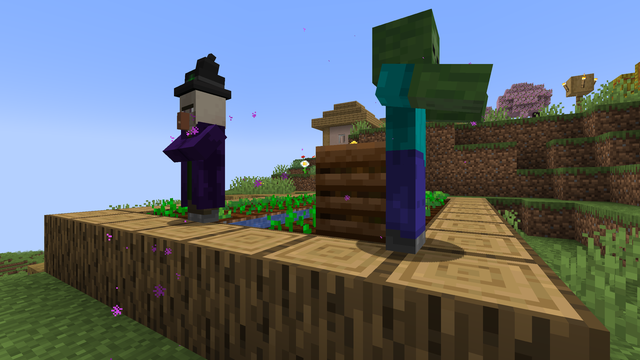sorcieres: (171, 82, 231, 225)
zombies: (365, 9, 444, 258)
